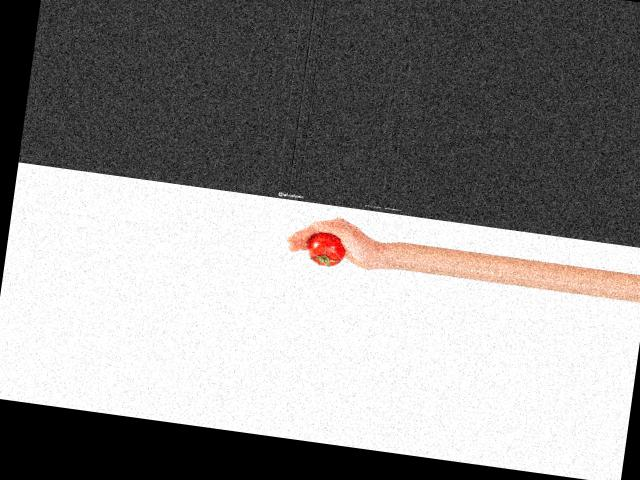tomato: (307, 231, 348, 267)
